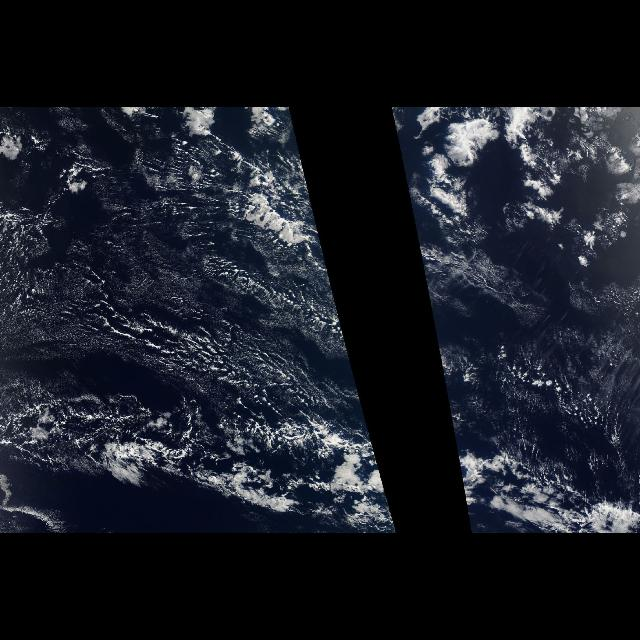Fish: (4, 377, 398, 533), (441, 377, 639, 533)
Flower: (434, 108, 640, 262)
Sugar: (1, 160, 368, 432), (418, 246, 638, 444)
